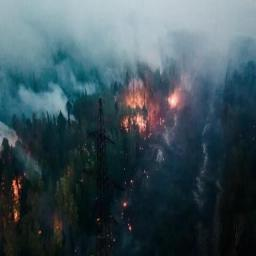Low smoke: (2, 0, 256, 114)
Medium fire: (121, 85, 182, 135)
Small fire: (9, 177, 27, 226), (50, 218, 65, 236), (119, 197, 132, 210)
